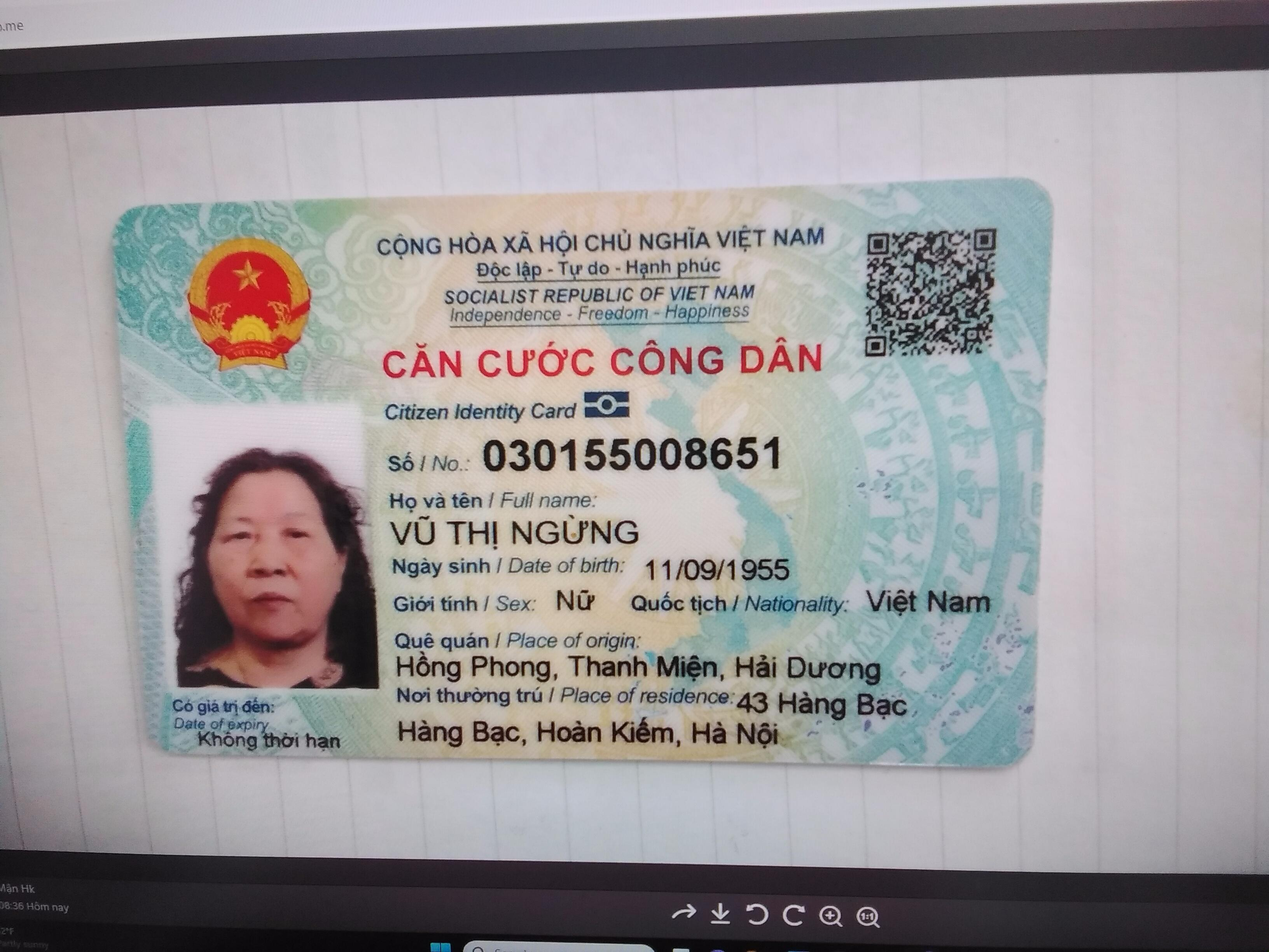ID: (473, 428, 793, 476)
birth: (639, 546, 799, 590)
name: (385, 506, 650, 554)
place: (388, 648, 905, 690)
residence: (389, 710, 792, 756), (731, 678, 913, 728)
